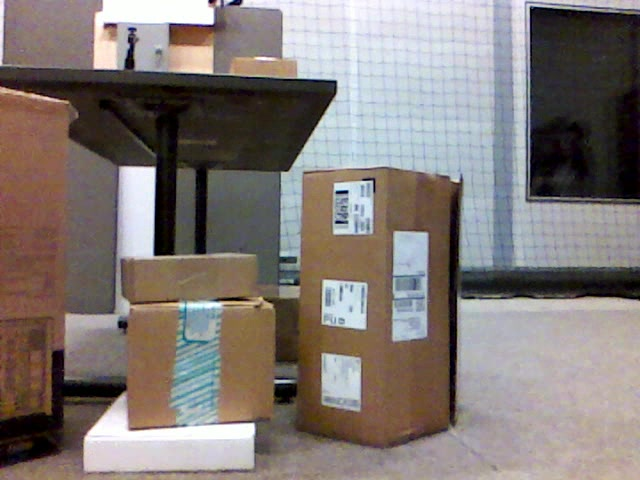box: (298, 165, 461, 449), (1, 86, 64, 467), (129, 299, 272, 430), (119, 253, 259, 301), (232, 58, 298, 76)
